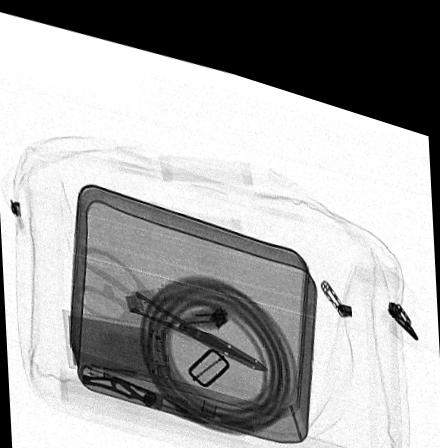Knife: (81, 357, 207, 408)
Powerbank: (60, 303, 172, 373)
Scissors: (75, 243, 272, 355)
